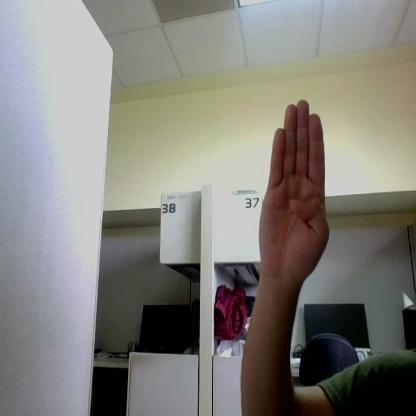B: (258, 100, 328, 266)
